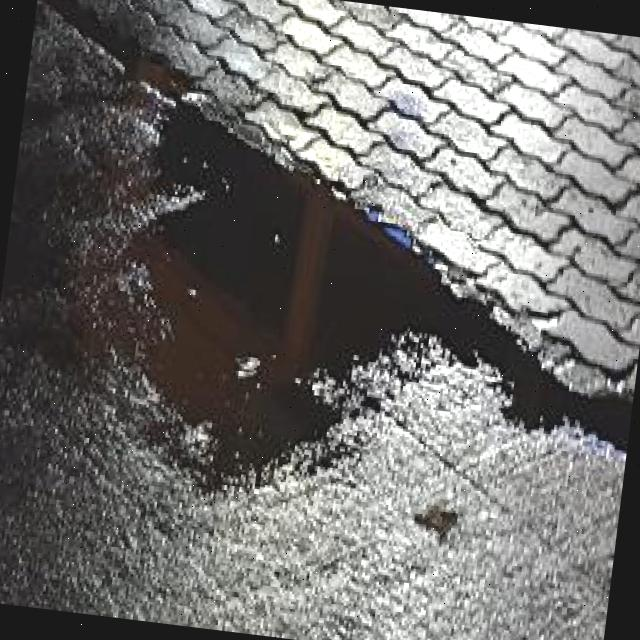stagnation: (56, 113, 494, 501)
